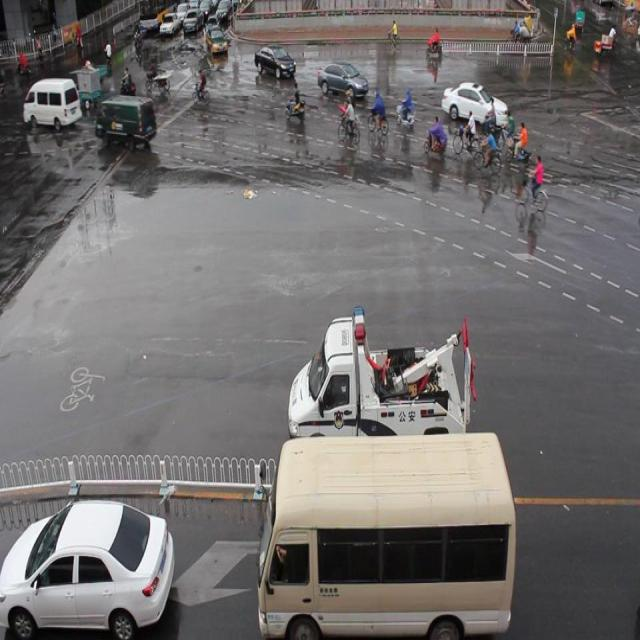bus: (288, 301, 475, 465)
car: (1, 498, 174, 640), (440, 80, 508, 130), (316, 58, 368, 102), (254, 43, 297, 78), (206, 26, 229, 59)
truck: (258, 429, 515, 640), (95, 92, 158, 153)
